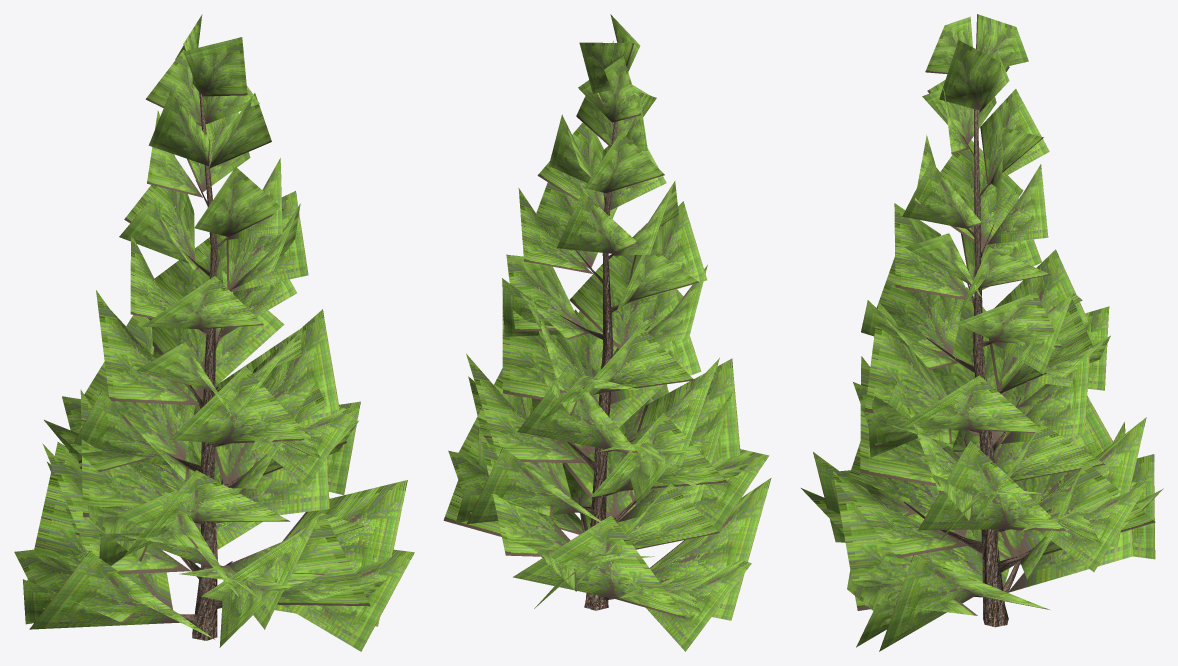
The model's file is spruce.dae.
3 views of the same model, side by side, from view 1: azimuth 30°, elevation 25°; view 2: azimuth 150°, elevation 25°; view 3: azimuth 270°, elevation 25° (orthographic). The views are drawn at different scales.
Parts seen in each view (by area): view 1: Tree_1, Tree_0; view 2: Tree_1, Tree_0; view 3: Tree_1, Tree_0.
Part boxes in pixels (x1,y1,x2,y2): Tree_1: (14, 14, 414, 651); Tree_0: (168, 93, 250, 640); Tree_1: (443, 14, 771, 651); Tree_0: (560, 121, 649, 610); Tree_1: (801, 14, 1163, 651); Tree_0: (903, 109, 1051, 627).
Size of the model in its own units: 153 by 147 by 268.
Materials: 2 (2 with a texture image).
